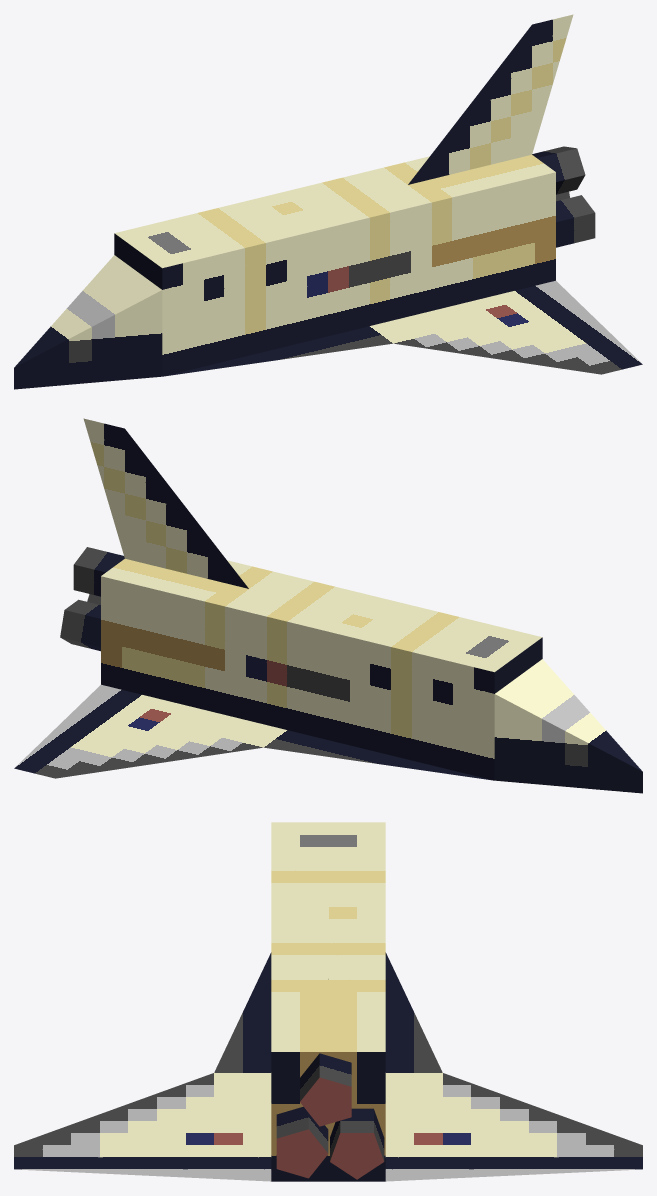
File: SM_Shuttle.fbx
3 views of the same model, one above another, from view 1: azimuth 30°, elevation 25°; view 2: azimuth 150°, elevation 25°; view 3: azimuth 270°, elevation 25° (orthographic). The views are drawn at different scales.
Parts seen in each view (by area): view 1: Shuttle.001; view 2: Shuttle.001; view 3: Shuttle.001.
Boxes of the visible parts, bbox=[...] form: Shuttle.001: bbox=[14, 14, 642, 389]; Shuttle.001: bbox=[14, 418, 642, 793]; Shuttle.001: bbox=[14, 822, 642, 1181].
Size of the model in its own units: 84.38 by 34.38 by 68.75.
